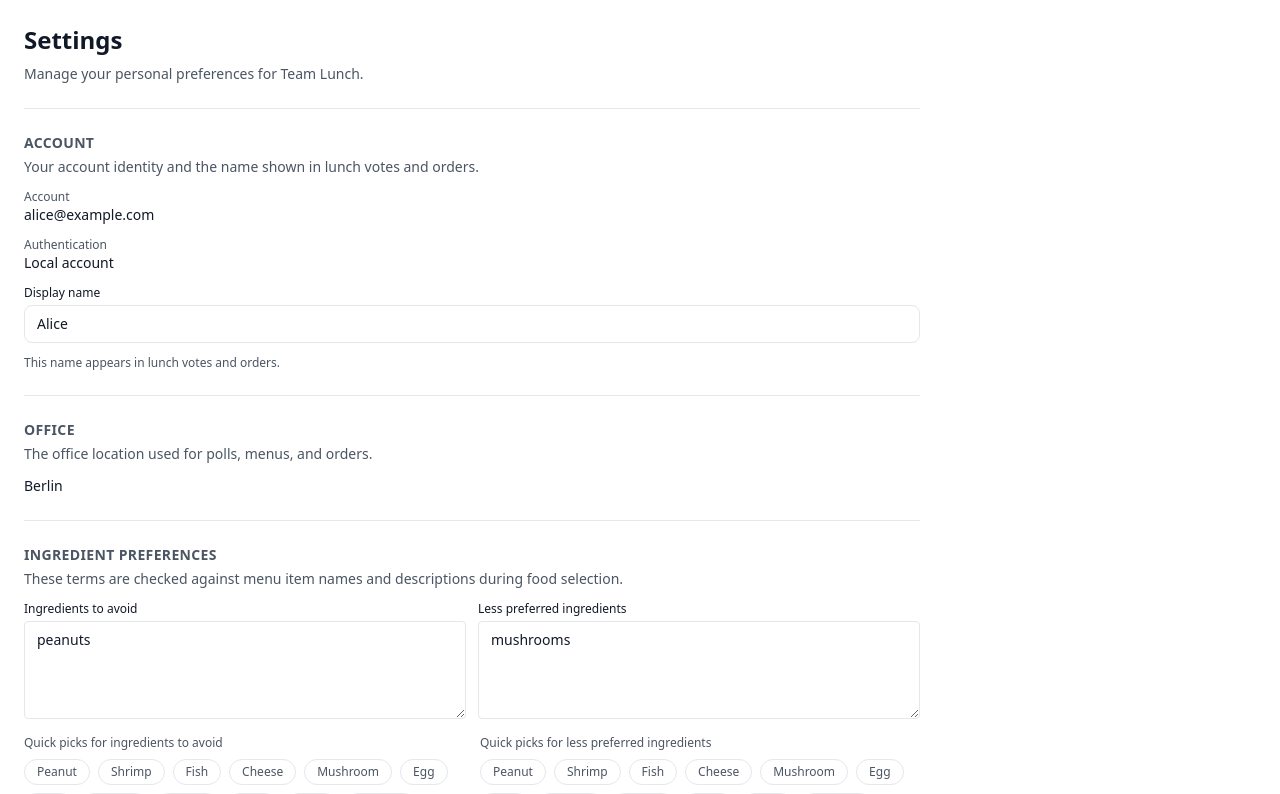
it: Settings › shows local account identity and saves display name
Check: the text "alice@example.com" is shown, box [24, 205, 154, 224]
Check: the text "Local account" is shown, box [24, 253, 114, 272]
Replace the text in the field labelled "Display name" with "Alicia" at coordinates (472, 324), box [24, 305, 920, 343]
(page scrolled)
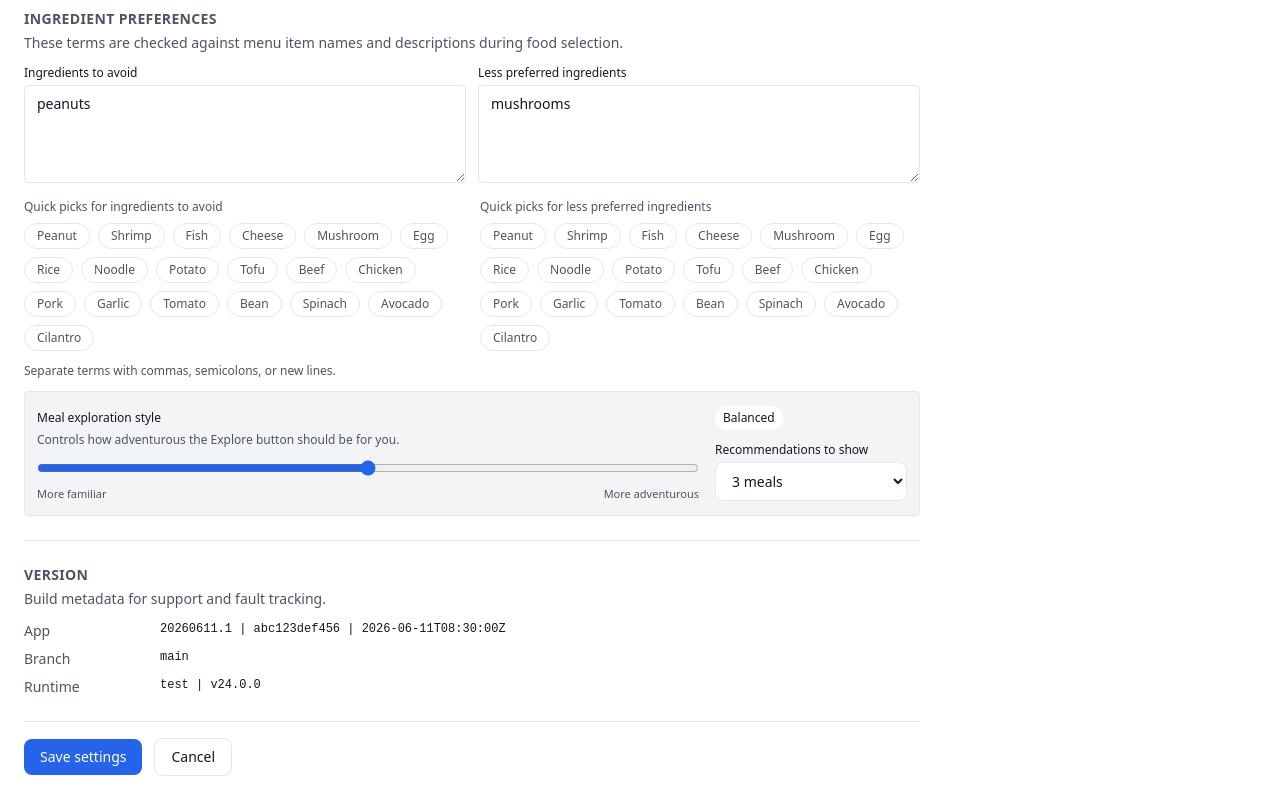
Click the button "Save settings" at coordinates (83, 756), box [24, 738, 142, 774]
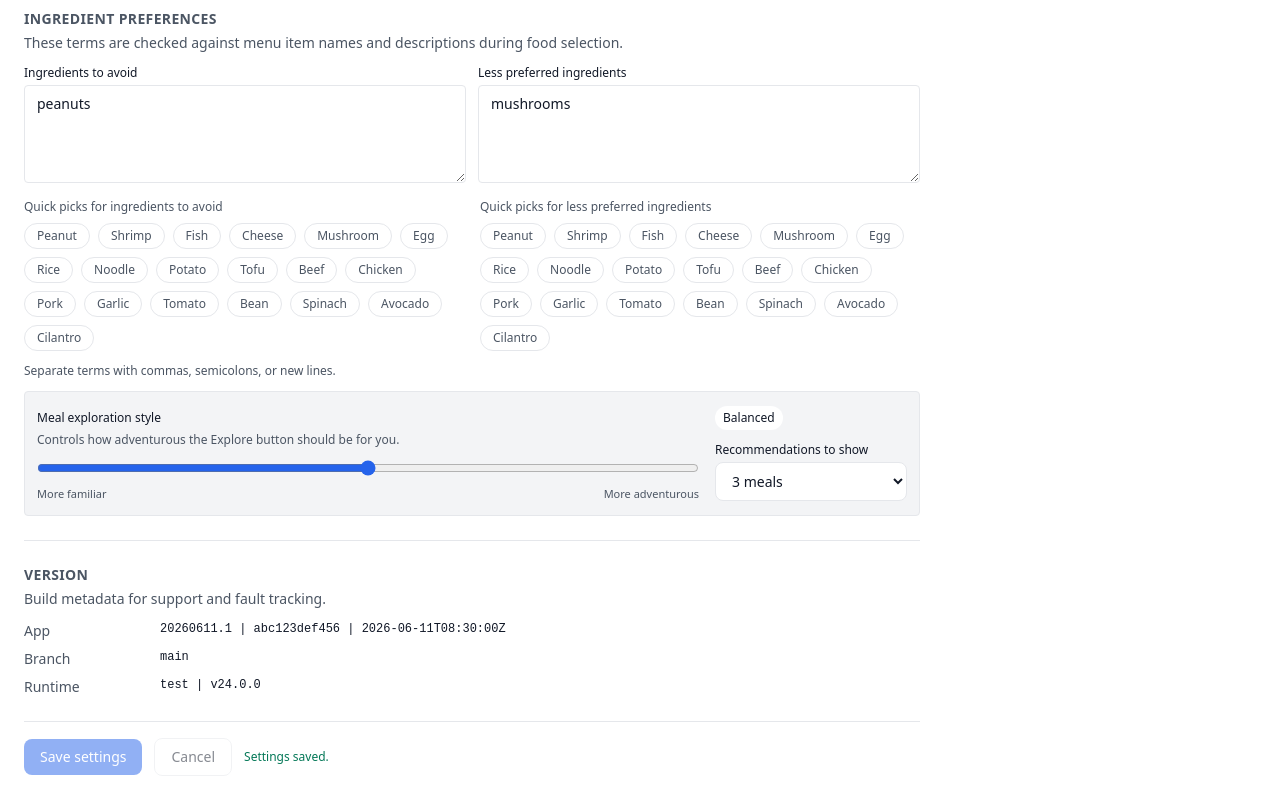
Check: the text "Settings saved." is shown, box [244, 748, 329, 764]
